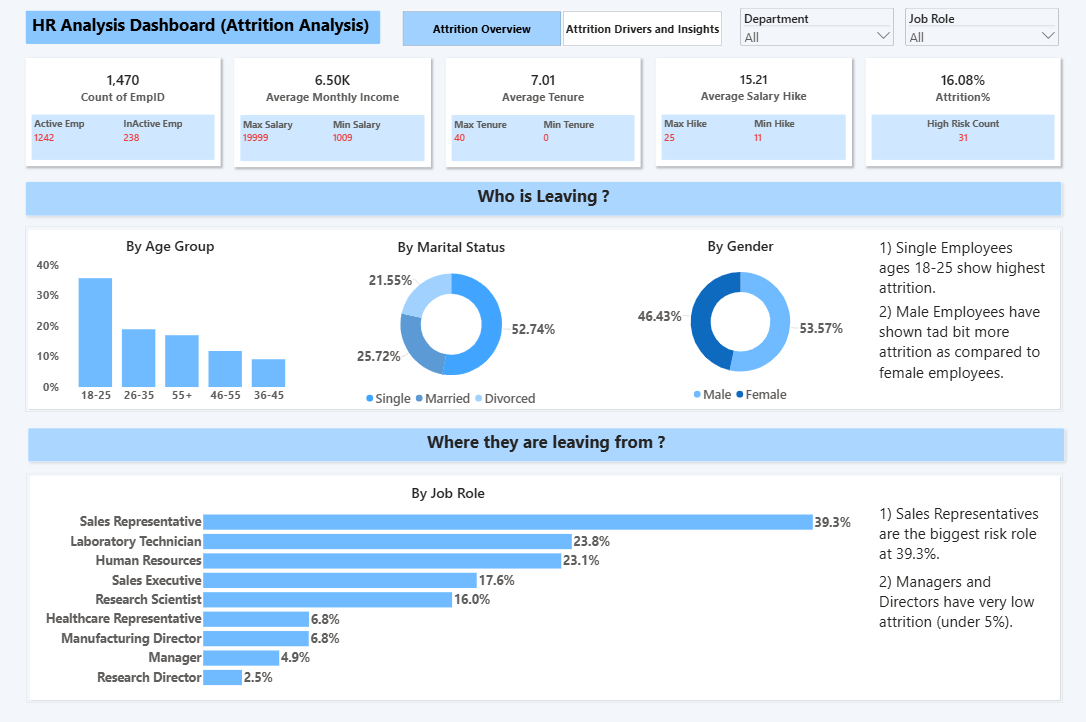

The dashboard page shown, as its layout file describes it:
{"tool":"powerbi","page":{"name":"Attrition Overview","canvas":[5200,3500],"ordinal":0},"visuals":[{"type":"shape","box":[130.8,1111.6,4932.1,879.9],"z":0},{"type":"shape","box":[136.7,2282.6,4926.5,1092.9],"z":1000},{"type":"cardVisual","fields":{"Data":["Count(HR_Analytics.EmpID)"]},"box":[130.8,309.1,928.2,514.1],"z":2000},{"type":"columnChart","title":"By Age Group","fields":{"Y":["All_Measures.Attrition%"],"Category":["HR_Analytics.AgeGroup"]},"box":[178.3,1153.2,1280.6,806.6],"z":3000},{"type":"textbox","box":[130.8,897.6,4926.5,162.5],"z":4000},{"type":"donutChart","title":"By Gender","fields":{"Y":["All_Measures.Attrition%"],"Category":["HR_Analytics.Gender"]},"box":[2877.1,1153.2,1307.8,796.5],"z":5000},{"type":"cardVisual","fields":{"Data":["All_Measures.Average Monthly Income"]},"box":[1123.6,309.1,934.1,519.2],"z":6000},{"type":"textbox","box":[142.7,2068.6,4927.8,160.5],"z":7000},{"type":"textbox","box":[130.8,83.2,1688,160],"z":8000},{"type":"donutChart","title":"By Marital Status","fields":{"Y":["All_Measures.Attrition%"],"Category":["HR_Analytics.MaritalStatus"]},"box":[1475.1,1158.5,1362.6,809.1],"z":10000},{"type":"barChart","title":"By Job Role","fields":{"Y":["All_Measures.Attrition%"],"Category":["HR_Analytics.JobRole"]},"box":[219.9,2330.2,3840,1004.6],"z":11000},{"type":"pageNavigator","box":[1920,83.2,1527.7,172.4],"z":12000},{"type":"cardVisual","fields":{"Data":["Avg(HR_Analytics.YearsAtCompany)"]},"box":[2128.1,309.1,928.2,519.2],"z":13000},{"type":"textbox","box":[4184.8,1153.2,838.1,802.5],"z":14000},{"type":"slicer","fields":{"Values":["HR_Analytics.Department"]},"box":[3530.9,71.3,728.6,180],"z":15000},{"type":"cardVisual","fields":{"Data":["Avg(HR_Analytics.PercentSalaryHike)"]},"box":[3126.8,309.1,934.1,514.1],"z":16000},{"type":"slicer","fields":{"Values":["HR_Analytics.JobRole"]},"box":[4315.6,71.3,728,180],"z":17000},{"type":"cardVisual","fields":{"Data":["All_Measures.Attrition%"]},"box":[4125.5,309.1,928.2,514.1],"z":18000},{"type":"textbox","box":[4184.8,2330.2,838.1,998.6],"z":19000}]}

Visuals, with their boxes in screenshot pixels (x1, y1, x2, y2), scaled from the page's 5200x3500 canvas onto the 1086x722 screenshot:
shape: select_region(27, 229, 1057, 411)
shape: select_region(29, 471, 1057, 696)
cardVisual - Count(HR_Analytics.EmpID): select_region(27, 64, 221, 170)
"By Age Group" columnChart: select_region(37, 238, 305, 404)
textbox: select_region(27, 185, 1056, 219)
"By Gender" donutChart: select_region(601, 238, 874, 402)
cardVisual - All_Measures.Average Monthly Income: select_region(235, 64, 430, 171)
textbox: select_region(30, 427, 1059, 460)
textbox: select_region(27, 17, 380, 50)
"By Marital Status" donutChart: select_region(308, 239, 593, 406)
"By Job Role" barChart: select_region(46, 481, 848, 688)
pageNavigator: select_region(401, 17, 720, 53)
cardVisual - Avg(HR_Analytics.YearsAtCompany): select_region(444, 64, 638, 171)
textbox: select_region(874, 238, 1049, 403)
slicer - HR_Analytics.Department: select_region(737, 15, 890, 52)
cardVisual - Avg(HR_Analytics.PercentSalaryHike): select_region(653, 64, 848, 170)
slicer - HR_Analytics.JobRole: select_region(901, 15, 1053, 52)
cardVisual - All_Measures.Attrition%: select_region(862, 64, 1055, 170)
textbox: select_region(874, 481, 1049, 687)
